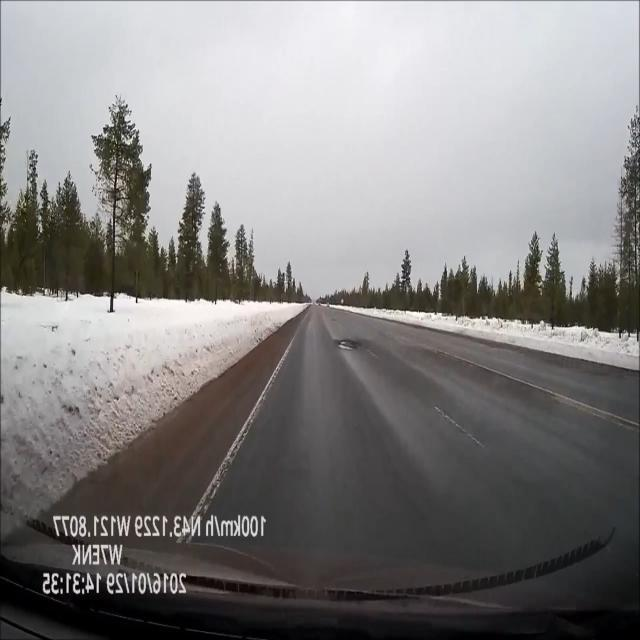pothole: (336, 325, 365, 358)
